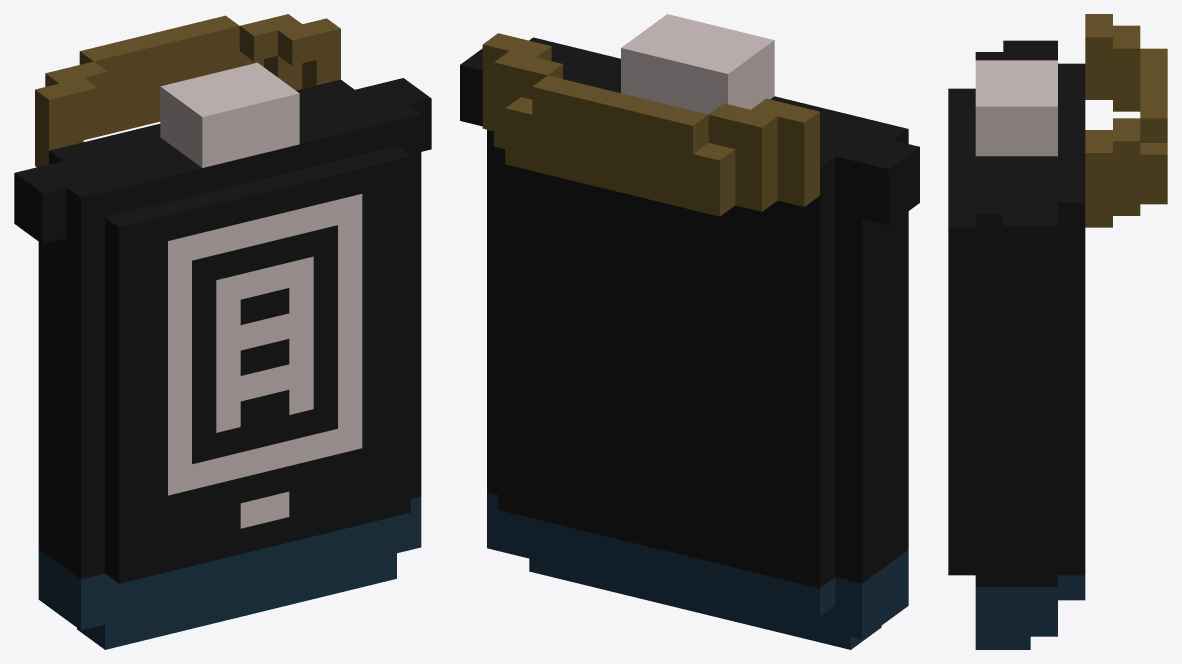
File: LeleTorso.fbx
3 renders of one model, left to right at view 1: azimuth 30°, elevation 25°; view 2: azimuth 150°, elevation 25°; view 3: azimuth 270°, elevation 25°, orthographic. The views are drawn at different scales.
Parts seen in each view (by area): view 1: LeleTorso; view 2: LeleTorso; view 3: LeleTorso.
Boxes of the visible parts, x1,y1,x2,y2 form: LeleTorso: [14, 14, 431, 649]; LeleTorso: [460, 14, 919, 649]; LeleTorso: [948, 14, 1167, 649].
Bounding box in the file's own units: 160 × 200 × 80.
